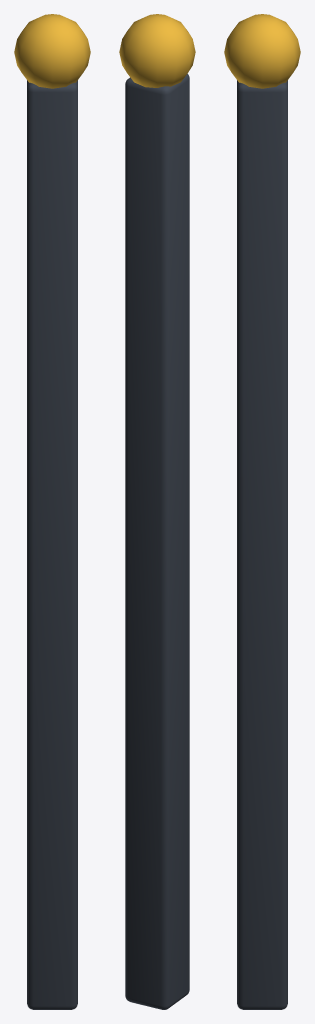
Rendered from cerca_metal_fim.glb.
3 views of the same model, side by side, from view 1: azimuth 90°, elevation 25°; view 2: azimuth 150°, elevation 25°; view 3: azimuth 270°, elevation 25° (orthographic).
Parts seen in each view (by area): view 1: cerca_metal_fim; view 2: cerca_metal_fim; view 3: cerca_metal_fim.
Part boxes in pixels (x1=…): cerca_metal_fim: x1=14, y1=14, x2=90, y2=1009; cerca_metal_fim: x1=119, y1=14, x2=195, y2=1009; cerca_metal_fim: x1=224, y1=14, x2=300, y2=1009.
Size of the model in its own units: 0.09 by 1.27 by 0.09.
1 material, 1 textured.
